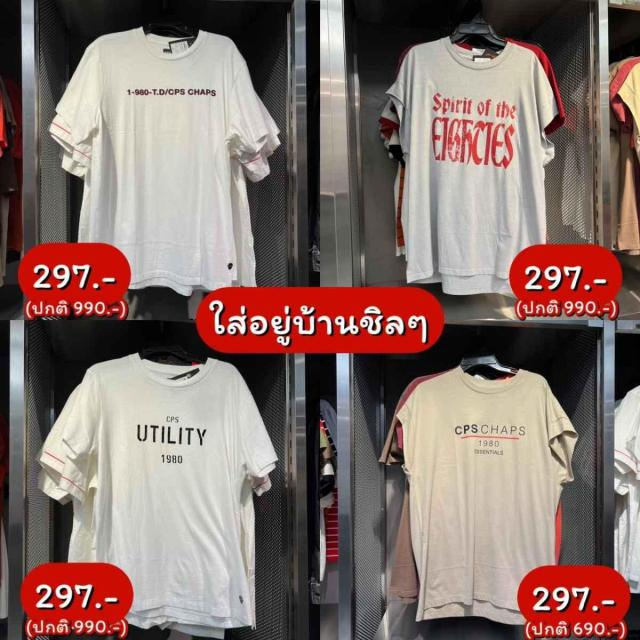Tshirt: (61, 348, 274, 627), (61, 27, 272, 285), (394, 360, 568, 624), (391, 40, 558, 298)
